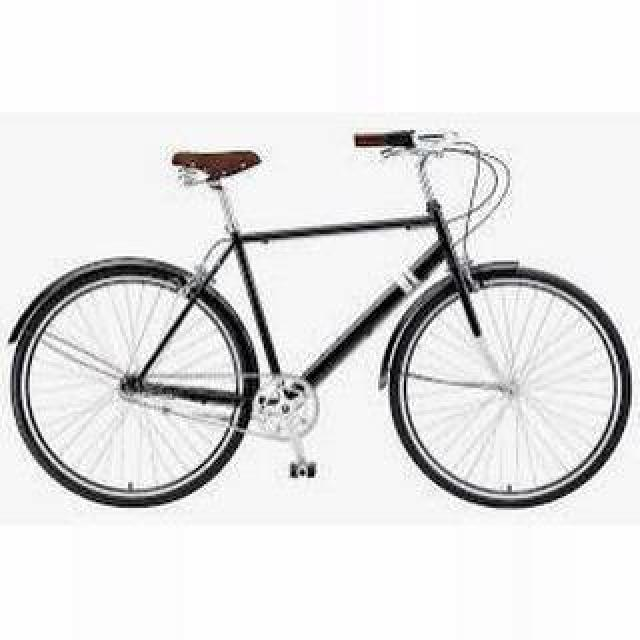Person: (7, 130, 633, 512)
